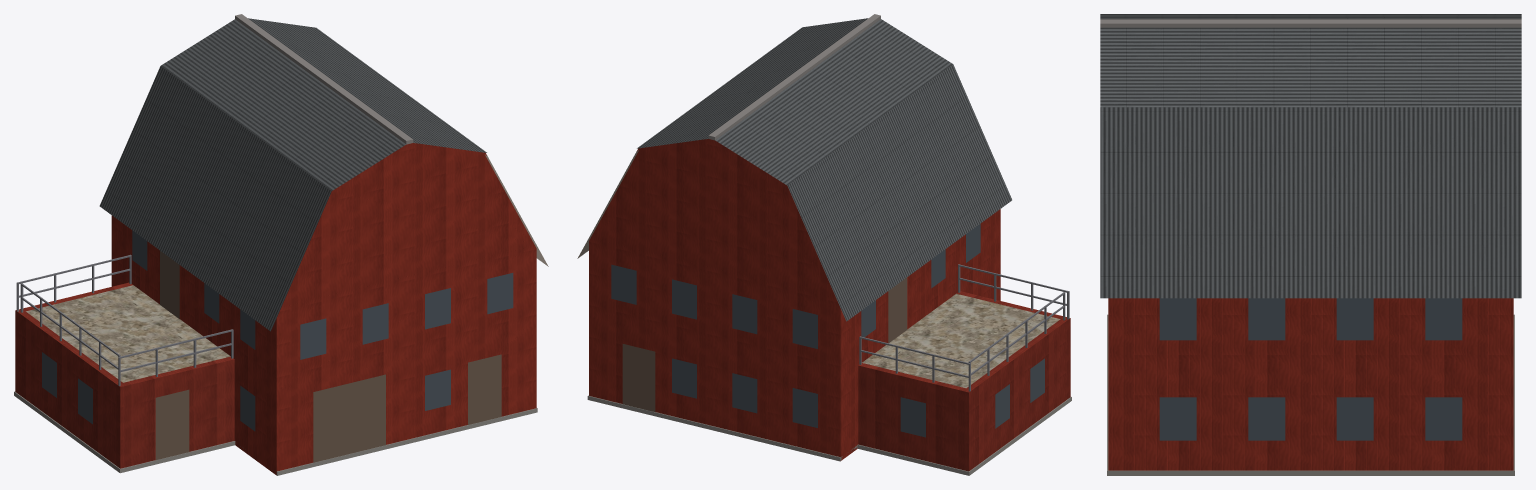
File: cr-barn-lofts.towns-v1.lod1.glb
3 renders of one model, left to right at view 1: azimuth 30°, elevation 25°; view 2: azimuth 150°, elevation 25°; view 3: azimuth 270°, elevation 25°, orthographic. The views are drawn at different scales.
Parts seen in each view (by area): view 1: cr-barn-lofts; view 2: cr-barn-lofts; view 3: cr-barn-lofts.
Boxes of the visible parts, x1,y1,x2,y2 form: cr-barn-lofts: (14, 14, 548, 475); cr-barn-lofts: (577, 14, 1071, 475); cr-barn-lofts: (1100, 14, 1521, 475).
Size of the model in its own units: 14.78 by 11.25 by 11.42.
4 materials, 3 textured.
